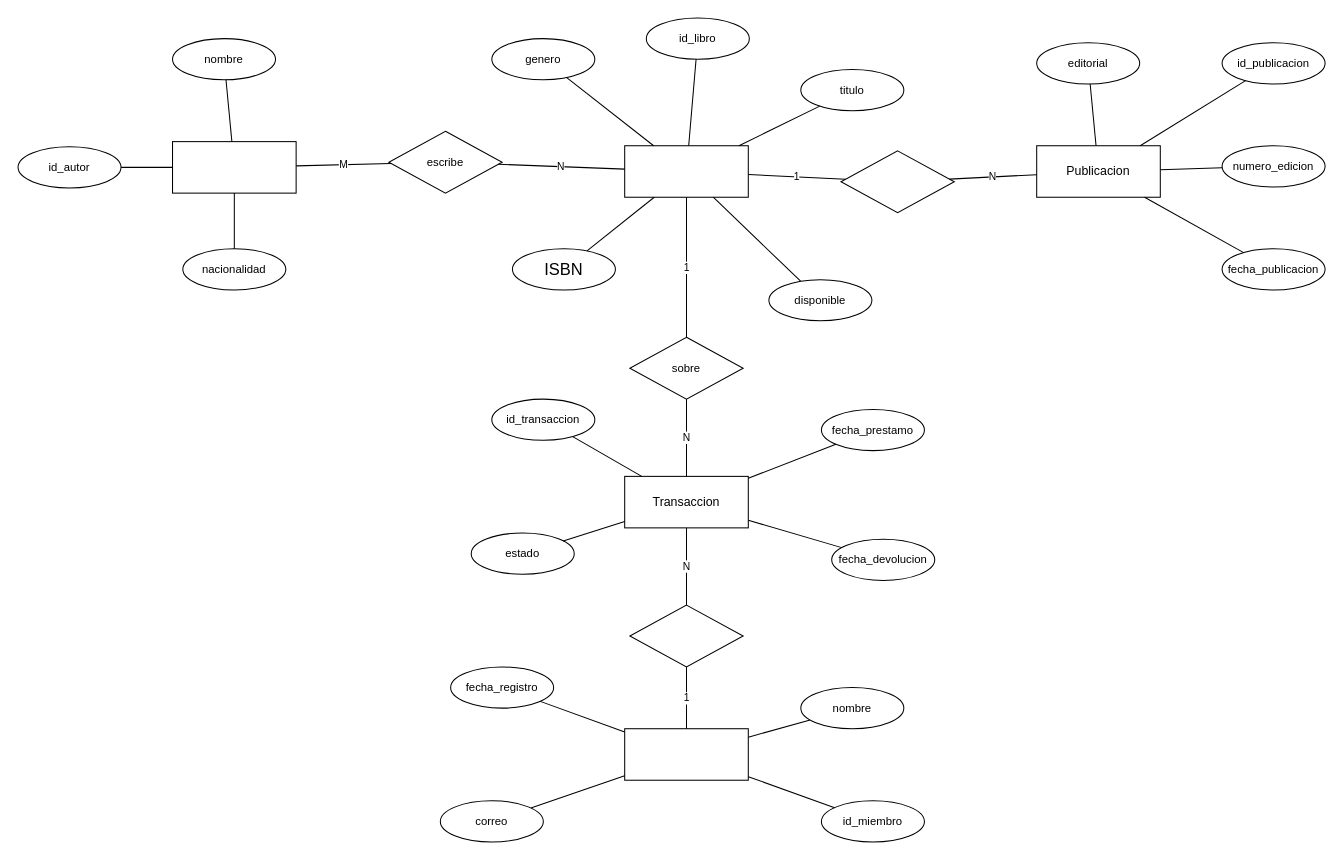
The diagram is 1343 pixels wide and 860 high, and some of its shapes have lost their labels. The centre of each missing label's shape, as x and y in pixels:
"Autor" goes at pixel 233 167.
"Libro" goes at pixel 686 171.
"Miembro" goes at pixel 686 754.
"realiza" goes at pixel 686 635.
"tiene" goes at pixel 897 181.
